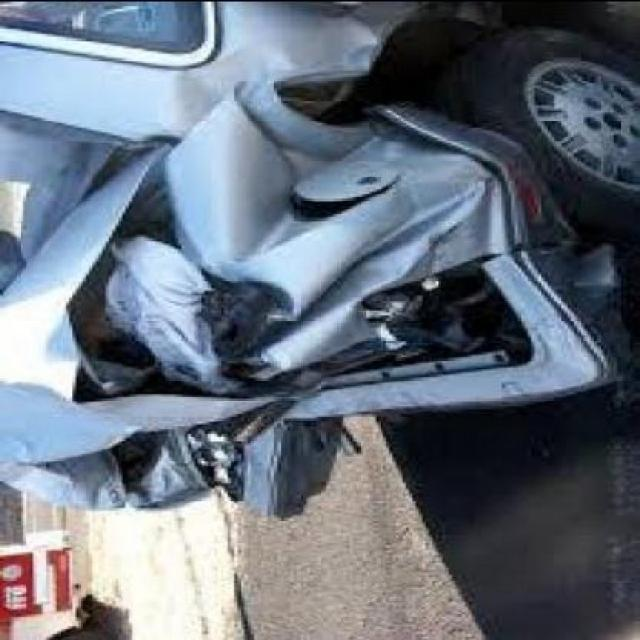damage: (2, 3, 628, 520)
